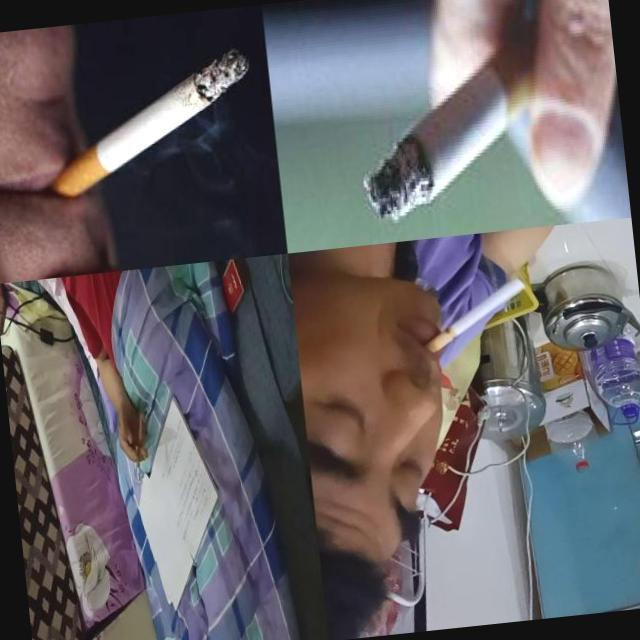smoke: (344, 0, 598, 226), (39, 45, 260, 198), (416, 274, 530, 354), (134, 446, 142, 481)
